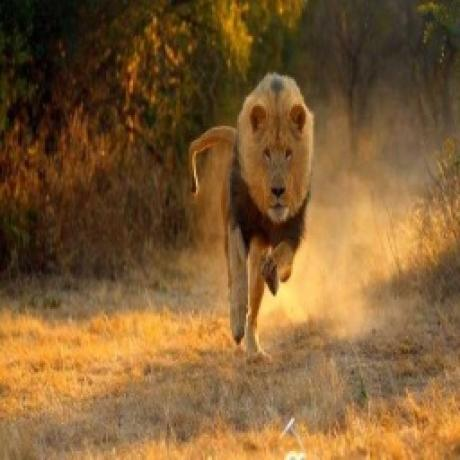Lion: (190, 74, 317, 351)
